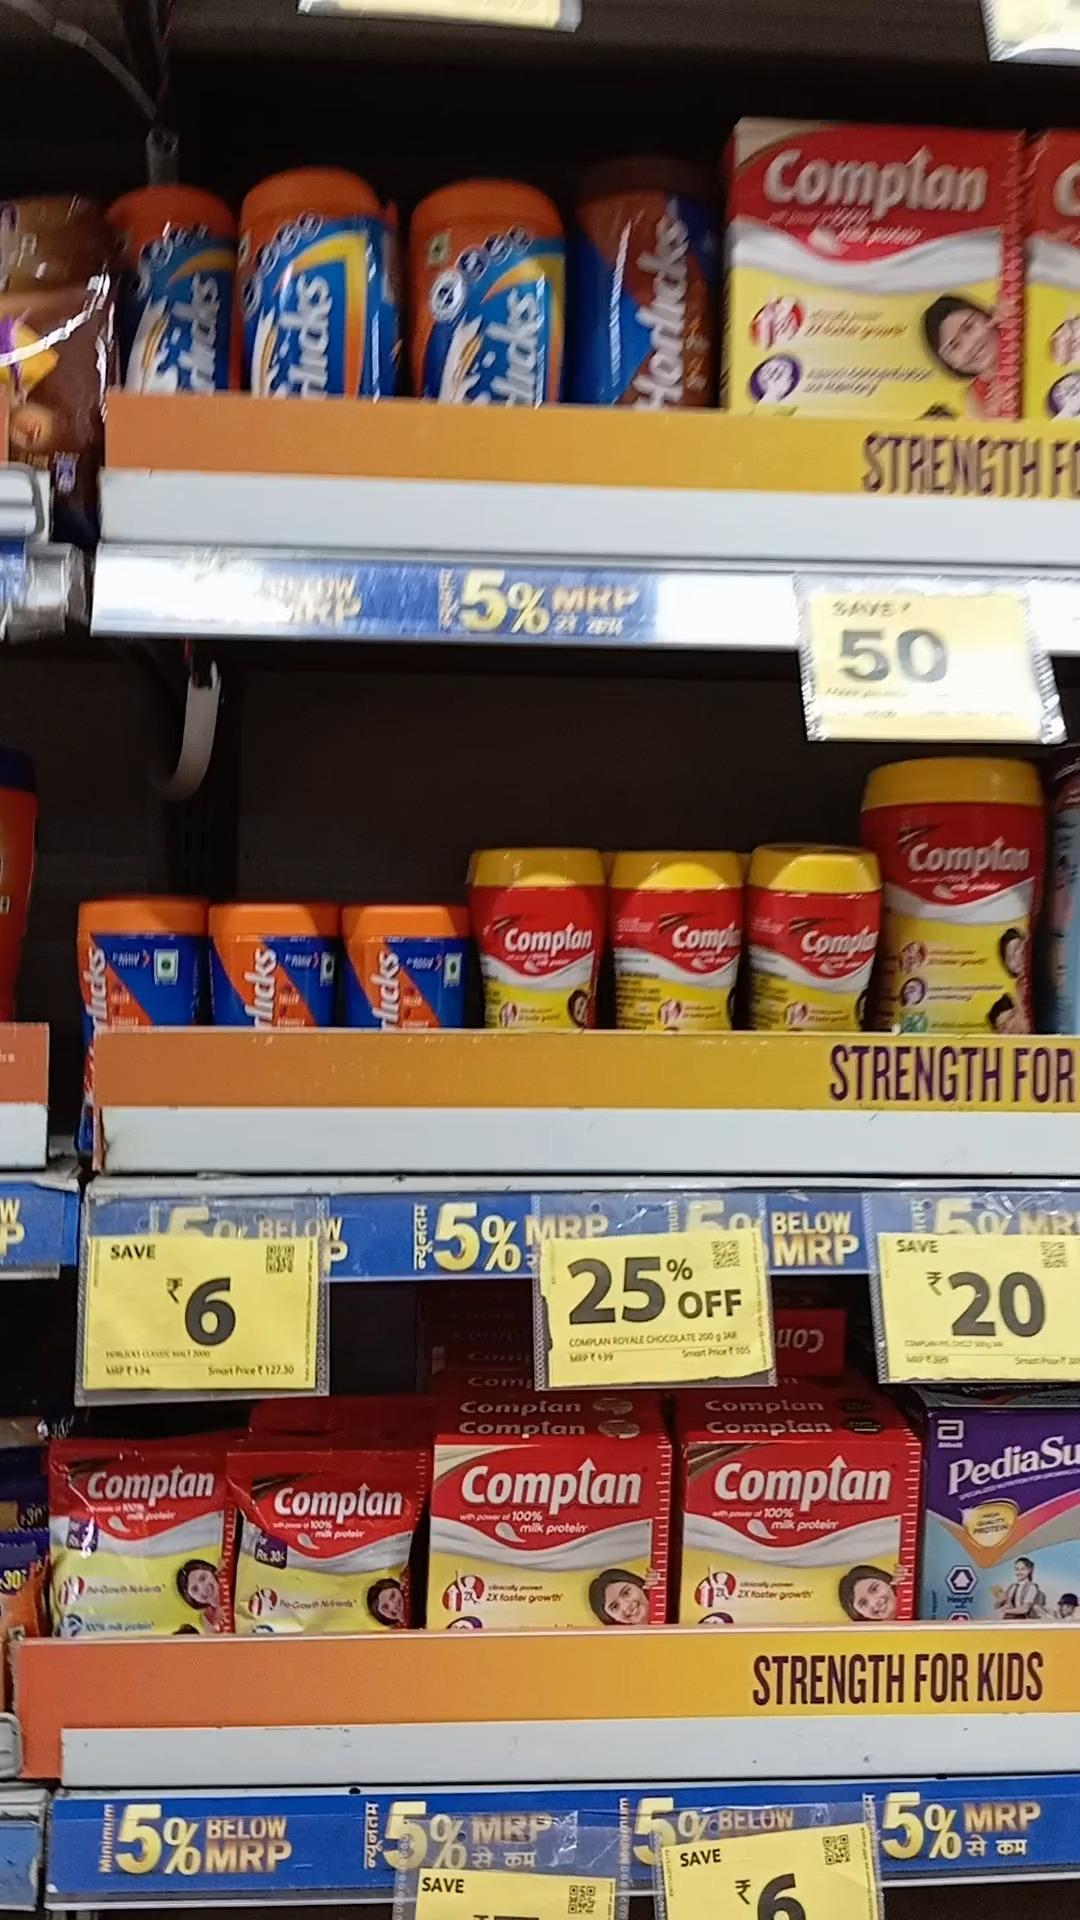COMPLAN_CHOCOLATE_200_GMS_JAR: (473, 845, 597, 1034), (779, 845, 881, 1034), (657, 848, 746, 1034)
COMPLAN_CHOCOLATE_500_GMS_PACK: (891, 752, 1047, 1034)
COMPLAN_KESAR_BADAM_500_GMS_PACK: (737, 113, 1023, 417)
HORLICK_CHOCOLATE_500_G_JAR: (582, 152, 717, 411)
HORLICK_CLASSIC_MALT_500_G_JAR: (237, 162, 384, 396), (417, 175, 563, 405), (123, 173, 231, 396)
